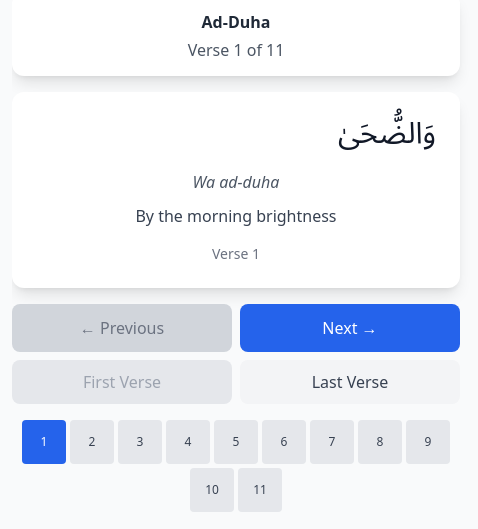
Test case: Reading Mode Integration › should navigate to next verse
Click the button "Next →": (350, 328) [240,304,460,352]
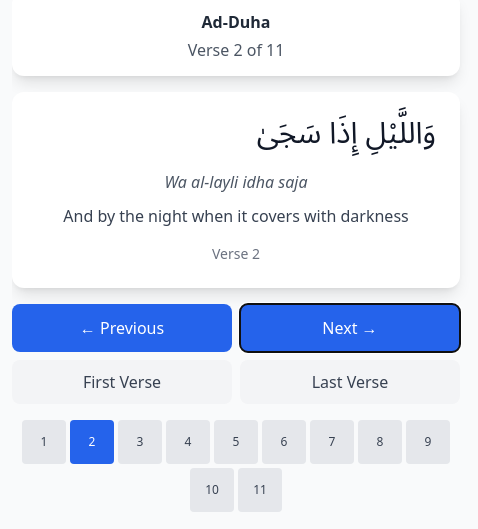
expect the text "وَاللَّيْلِ إِذَا سَجَىٰ" is shown: met, box [257,102,436,165]
expect the text "Verse 2 of 11" is shown: met, box [188,39,284,61]
